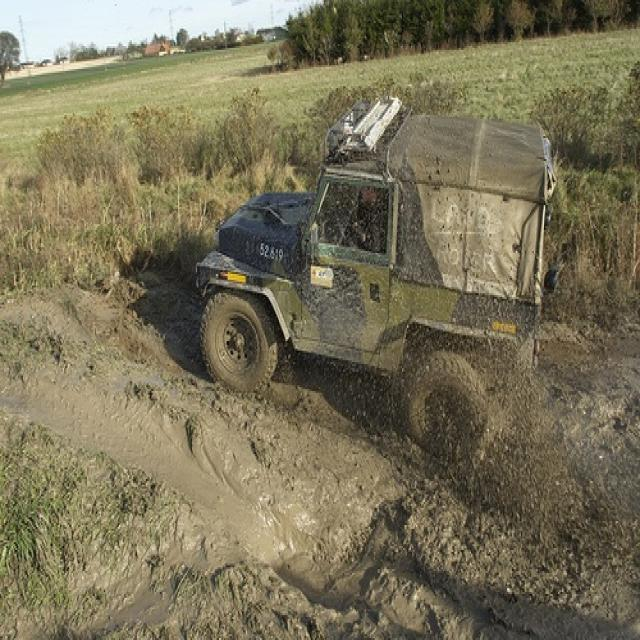car: (196, 86, 562, 472)
